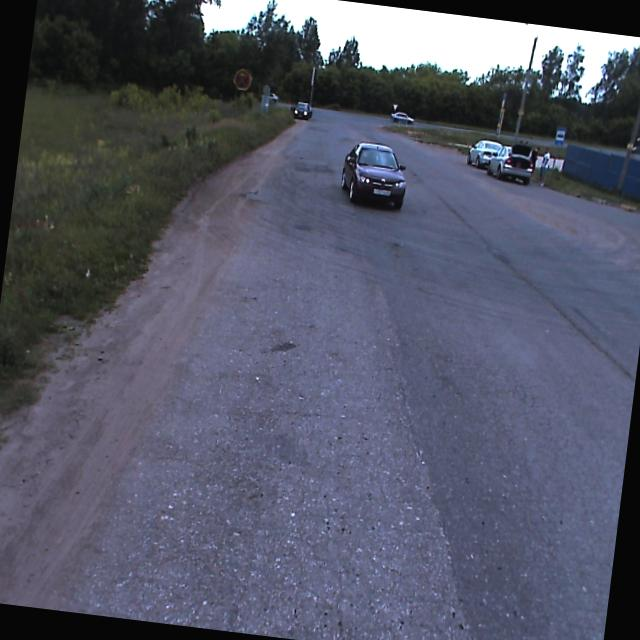road: (55, 106, 640, 640)
